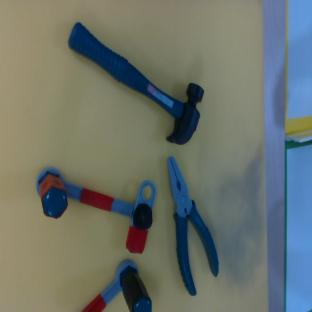non_pass: (82, 262, 151, 312)
pass: (28, 166, 158, 256)
